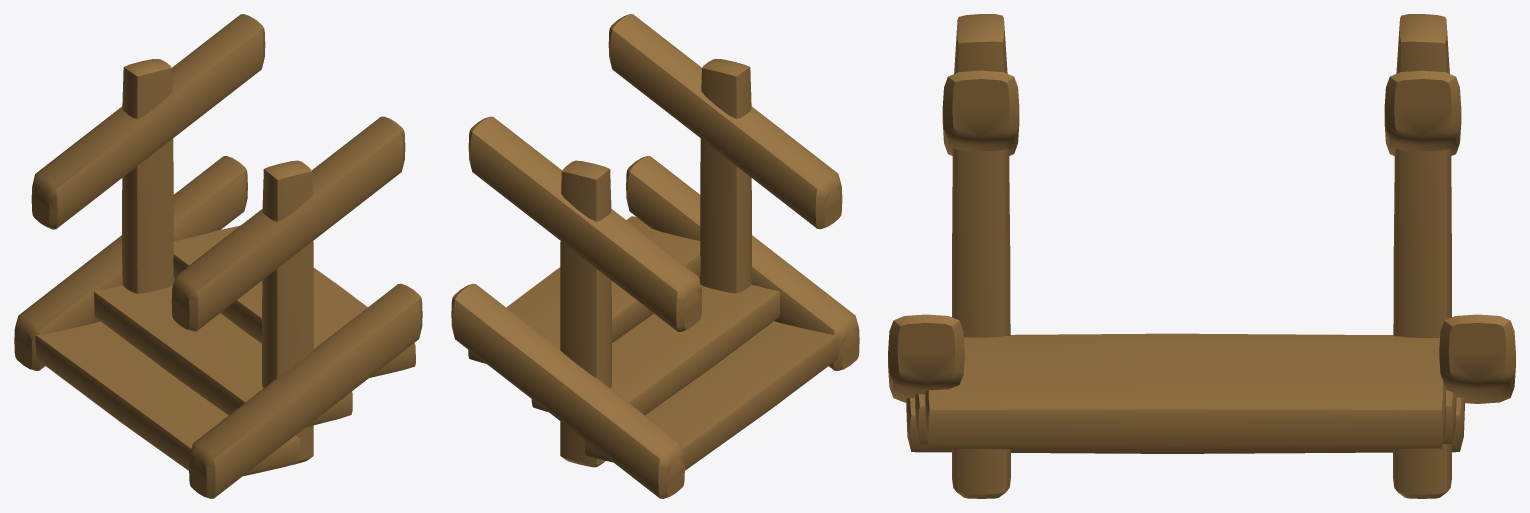
File: quaternius-platformer-game-pack-stairs-small.glb
3 renders of one model, left to right at view 1: azimuth 30°, elevation 25°; view 2: azimuth 150°, elevation 25°; view 3: azimuth 270°, elevation 25°, orthographic. The views are drawn at different scales.
Visible parts, largest first — view 1: Stairs_Small; view 2: Stairs_Small; view 3: Stairs_Small.
Boxes of the visible parts, left/top/right/bottom form: Stairs_Small: left=14, top=14, right=422, bottom=498; Stairs_Small: left=451, top=14, right=859, bottom=498; Stairs_Small: left=888, top=14, right=1515, bottom=498.
Bounding box in the file's own units: 1.64 × 2.23 × 2.56.
